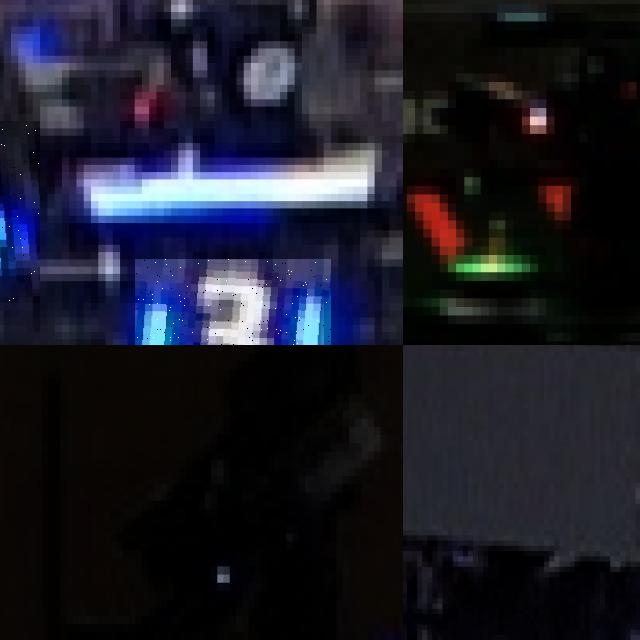B3: (134, 259, 331, 345), (0, 121, 40, 303)
